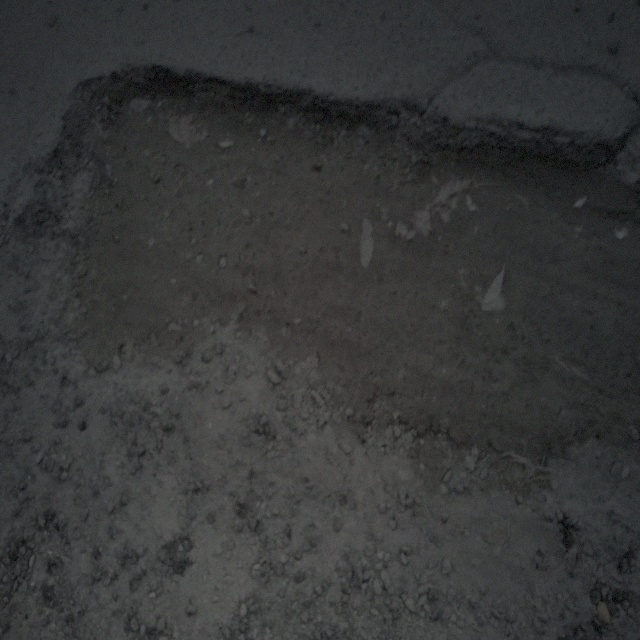pothole: (40, 52, 617, 515)
